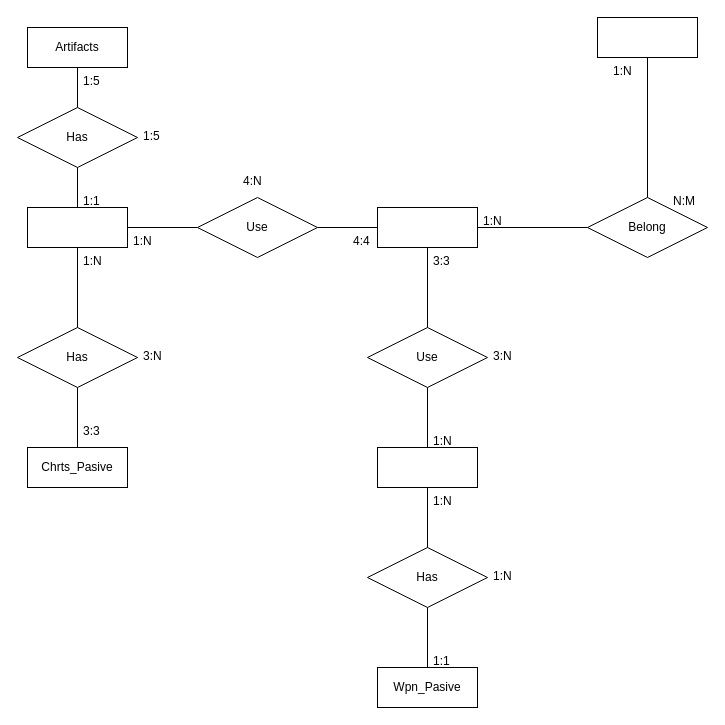
The diagram is 725 pixels wide and 725 high, and some of its shapes have lost their labels. Each missing label, with the centre of its shape:
"Characters" goes at pixel 77 227.
"Enemies" goes at pixel 647 37.
"Resources" goes at pixel 427 227.
"Weapon" goes at pixel 427 467.
